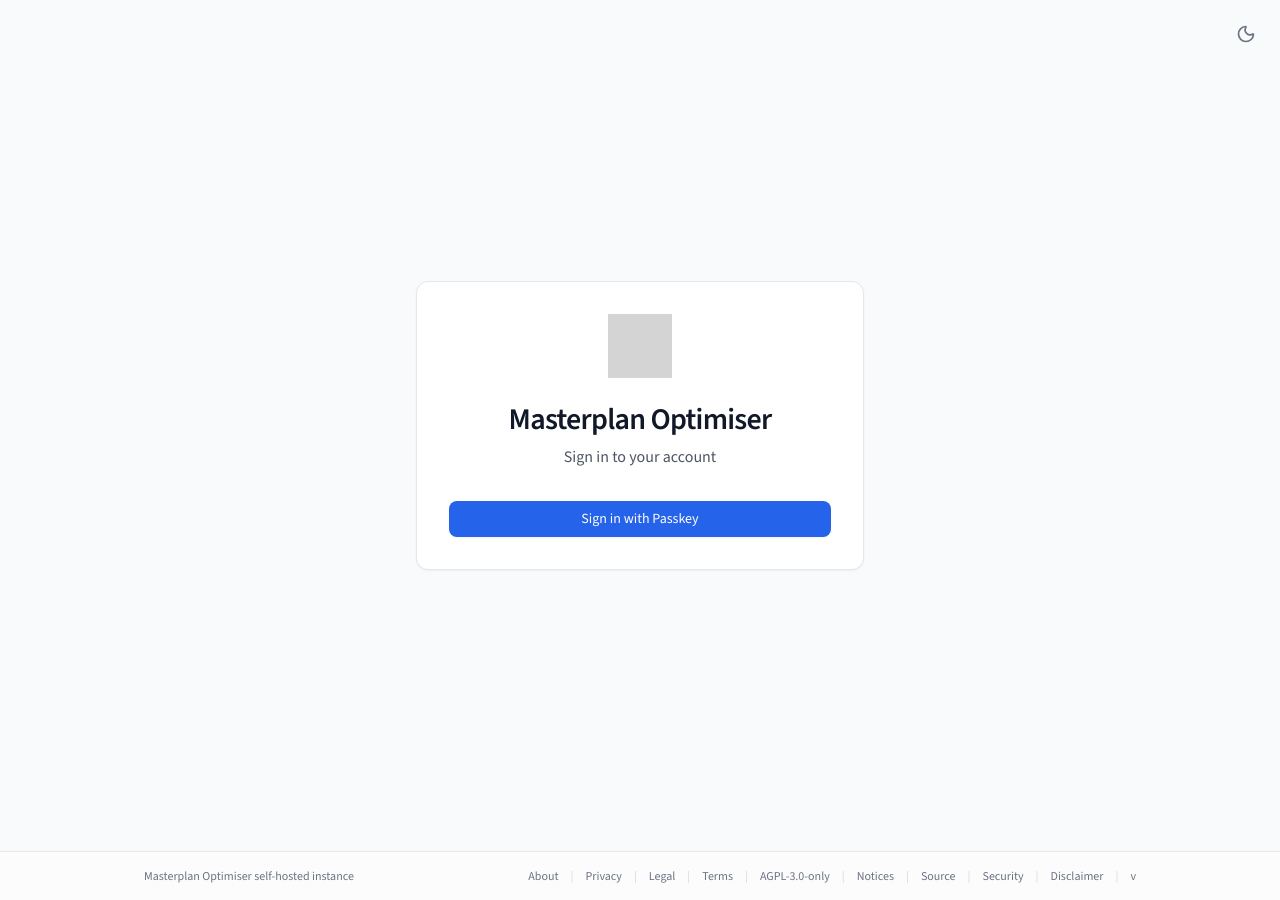
Test case: LoginPage › ignores duplicate passkey clicks while the first ceremony is starting
Click the button "Sign in with Passkey" at (640, 519), box [449,501,831,537]
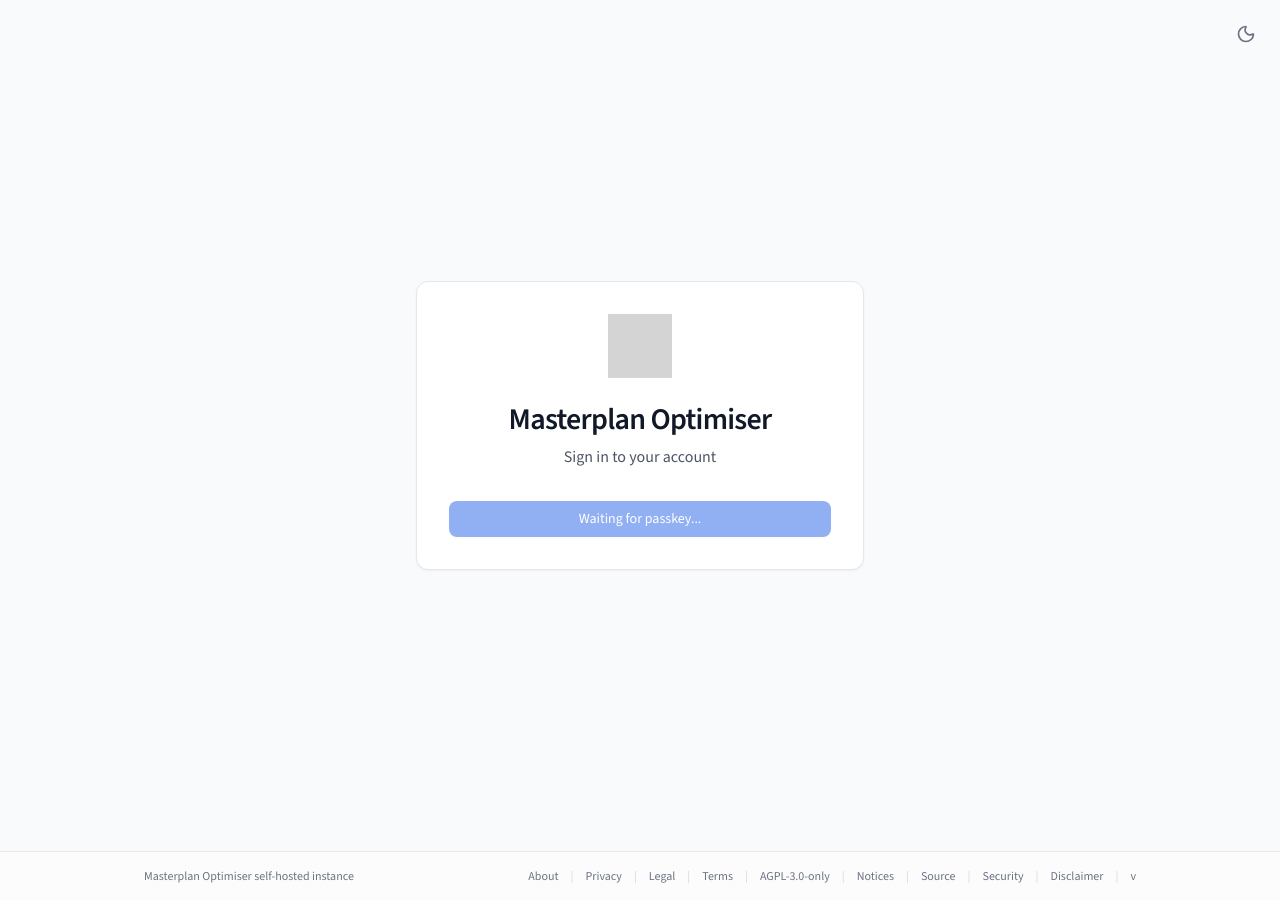
Click the button named "sign in with passkey" at (640, 519), box [449,501,831,537]
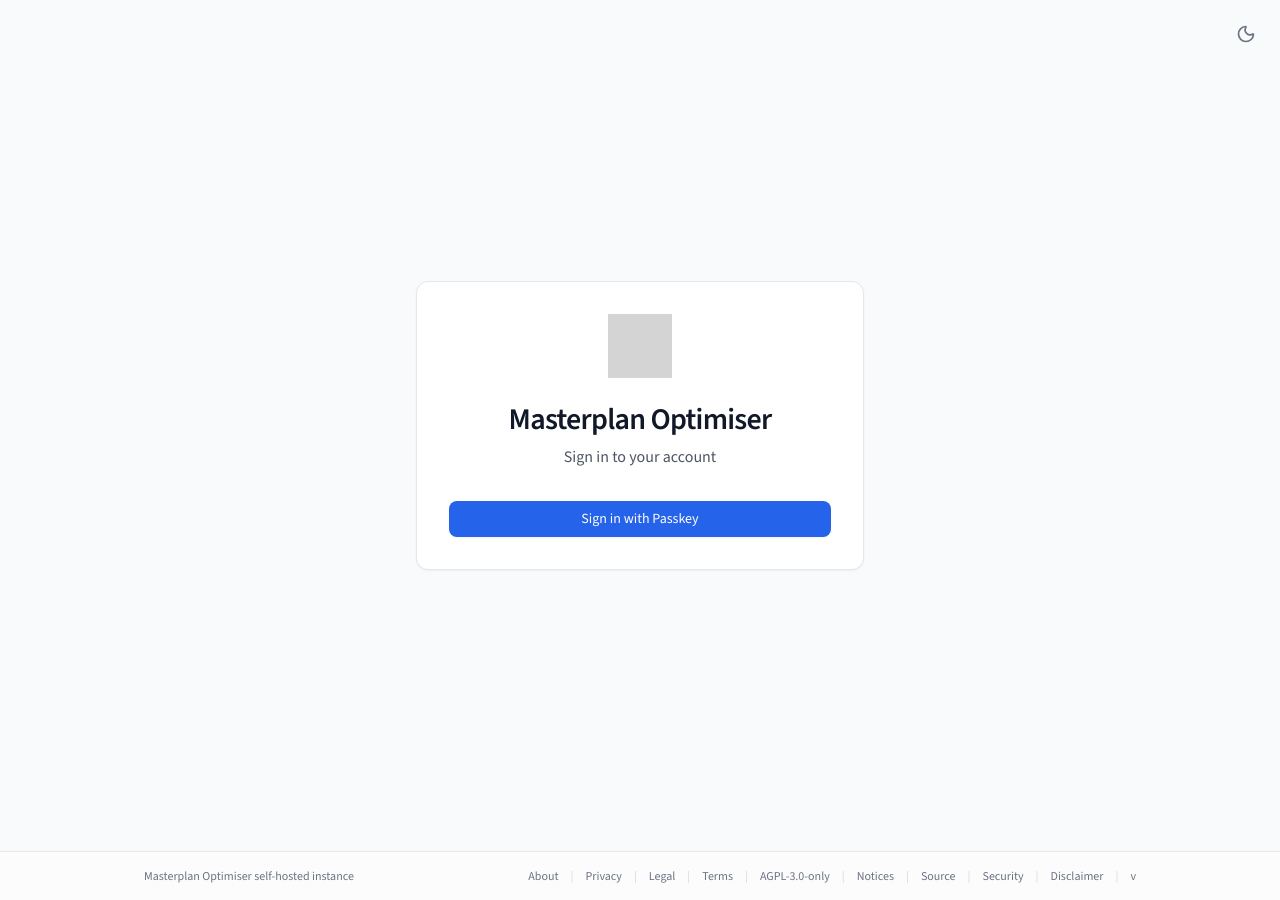
Check: the button "Sign in with Passkey" is enabled, box [449,501,831,537]
